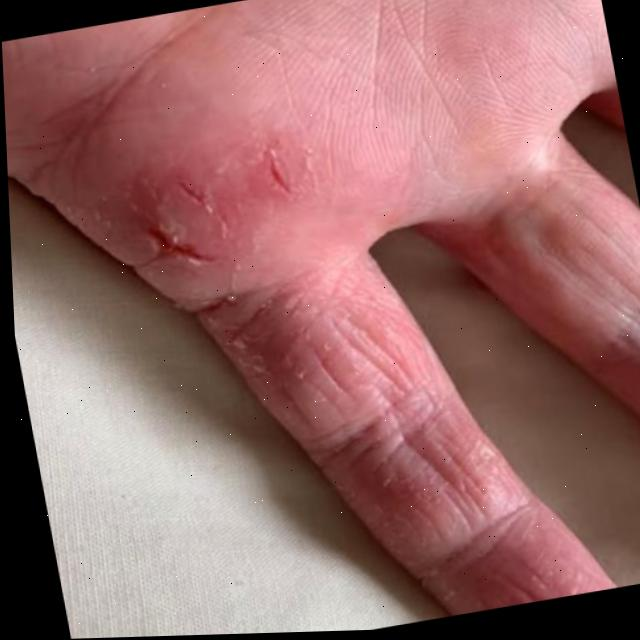Eczema: (80, 98, 604, 638)
